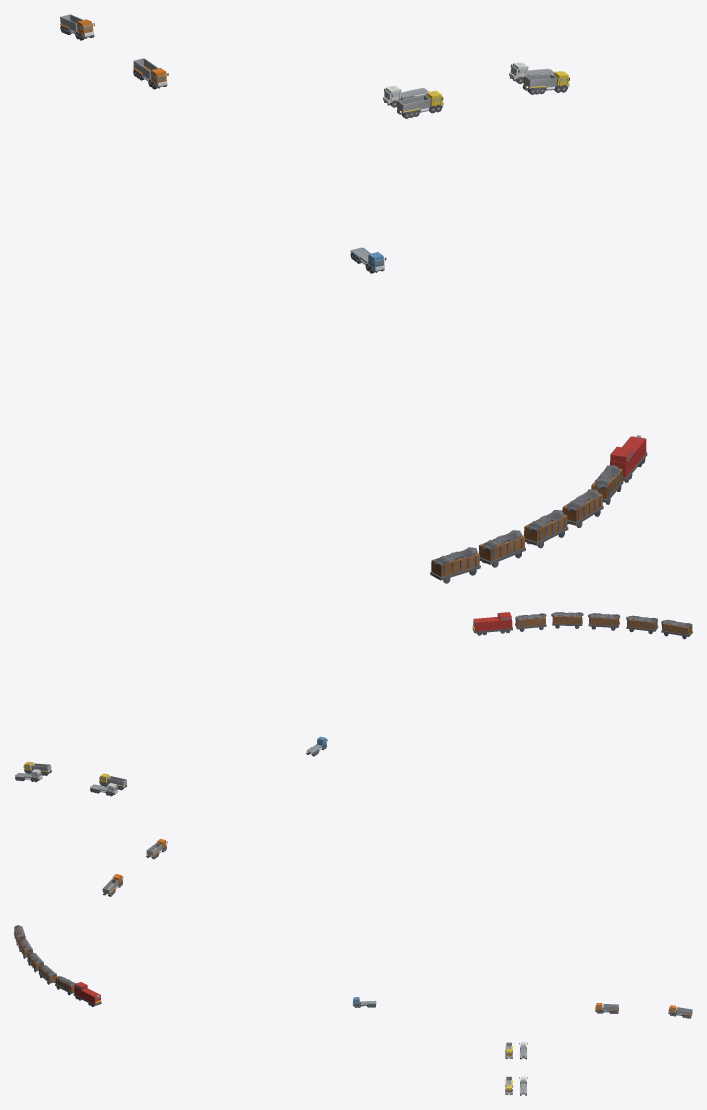
The model's file is Vehicles_P2.fbx.
3 views of the same model, one above another, from view 1: azimuth 30°, elevation 25°; view 2: azimuth 150°, elevation 25°; view 3: azimuth 270°, elevation 25° (orthographic). The views are drawn at different scales.
Visible parts, largest first — view 1: wagon.004, wagon.003, wagon.002, train, wagon.001, truck_road_ore2, truck_road_ore3; view 2: train, wagon.002, wagon, wagon.001, wagon.003, wagon.004; view 3: train.
Boxes of the visible parts, bbox=[...] form: wagon.004: bbox=[430, 547, 480, 583]; wagon.003: bbox=[479, 530, 525, 567]; wagon.002: bbox=[524, 510, 568, 548]; train: bbox=[610, 435, 647, 482]; wagon.001: bbox=[562, 489, 603, 527]; truck_road_ore2: bbox=[395, 90, 443, 118]; truck_road_ore3: bbox=[522, 71, 569, 94]; train: bbox=[472, 612, 512, 635]; wagon.002: bbox=[588, 613, 620, 630]; wagon: bbox=[515, 613, 546, 631]; wagon.001: bbox=[551, 612, 583, 628]; wagon.003: bbox=[626, 615, 658, 634]; wagon.004: bbox=[661, 619, 692, 639]; train: bbox=[73, 982, 101, 1006].
Size of the model in its own units: 14951 by 946 by 28112.
